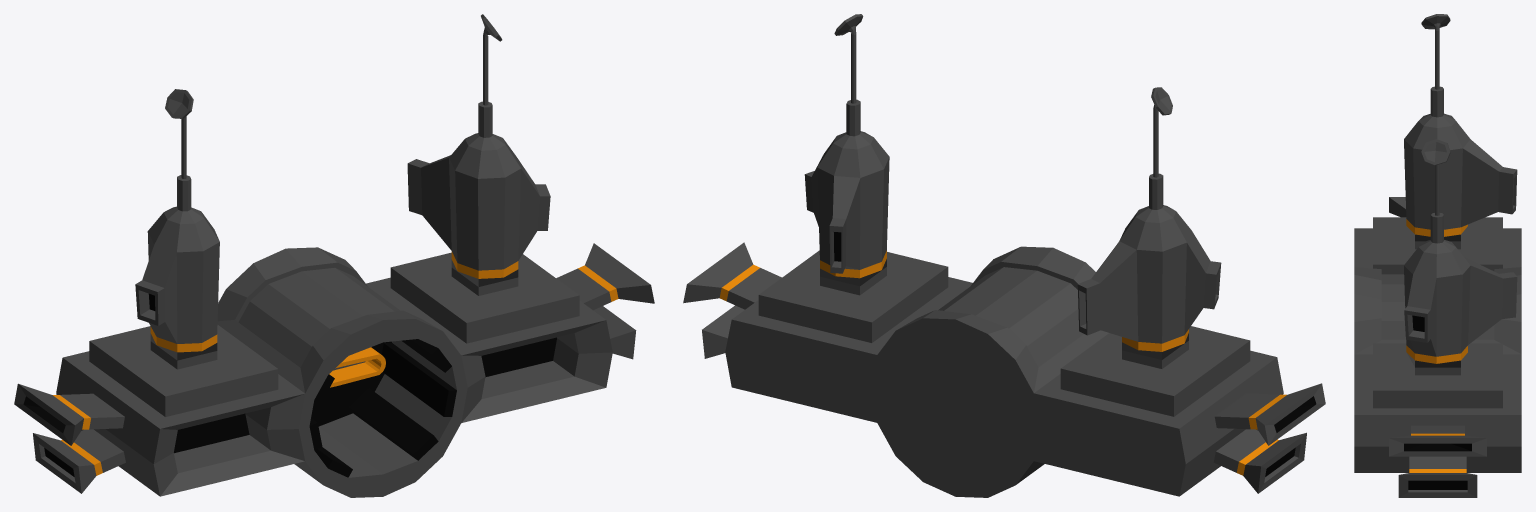
File: SpaceStation.glb
3 renders of one model, left to right at view 1: azimuth 30°, elevation 25°; view 2: azimuth 150°, elevation 25°; view 3: azimuth 270°, elevation 25°, orthographic. The views are drawn at different scales.
Parts seen in each view (by area): view 1: SpaceStation; view 2: SpaceStation; view 3: SpaceStation.
Boxes of the visible parts, <box> form: SpaceStation: <box>14,14,654,497</box>; SpaceStation: <box>683,14,1325,497</box>; SpaceStation: <box>1354,14,1521,497</box>.
Size of the model in its own units: 43.37 by 28.98 by 12.56.
1 material, 1 textured.
